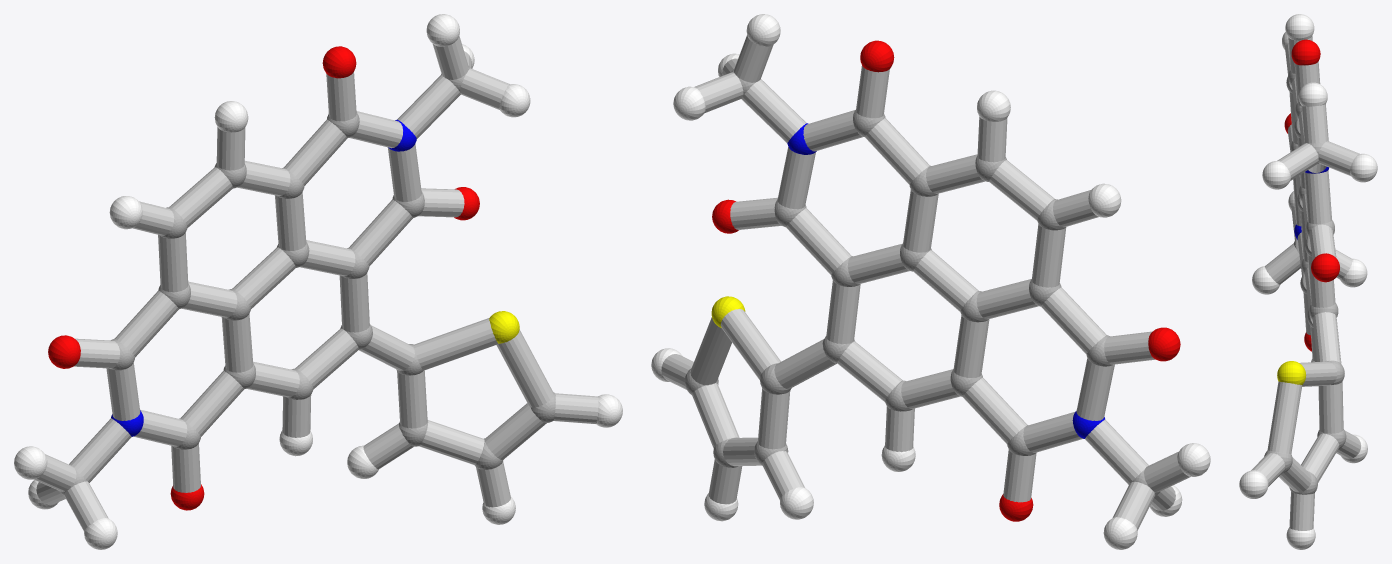
The model's file is Dimethyl_Naphthalene_Dicarboximide_Phi_25_Theta_200_Thiophene.glb.
3 views of the same model, side by side, from view 1: azimuth 30°, elevation 25°; view 2: azimuth 150°, elevation 25°; view 3: azimuth 270°, elevation 25° (orthographic). The views are drawn at different scales.
Parts seen in each view (by area): view 1: grp14119, grp7241, grp1, grp12309, grp13757, grp11585; view 2: grp14119, grp7241, grp1, grp12309, grp11585; view 3: grp14119, grp7241, grp1, grp12309, grp13757.
Boxes of the visible parts, bbox=[...] form: grp14119: bbox=[34, 36, 598, 531]; grp7241: bbox=[14, 14, 622, 549]; grp1: bbox=[58, 66, 555, 495]; grp12309: bbox=[48, 46, 479, 510]; grp13757: bbox=[489, 311, 519, 343]; grp11585: bbox=[111, 119, 416, 436]; grp14119: bbox=[661, 35, 1190, 530]; grp7241: bbox=[651, 14, 1210, 549]; grp1: bbox=[684, 69, 1159, 496]; grp12309: bbox=[712, 40, 1180, 521]; grp11585: bbox=[787, 123, 1104, 438]; grp14119: bbox=[1251, 36, 1361, 530]; grp7241: bbox=[1239, 14, 1377, 549]; grp1: bbox=[1264, 70, 1346, 494]; grp12309: bbox=[1284, 39, 1339, 351]; grp13757: bbox=[1277, 361, 1306, 384].
Bounding box in the file's own units: 11.86 × 10.12 × 2.86.
